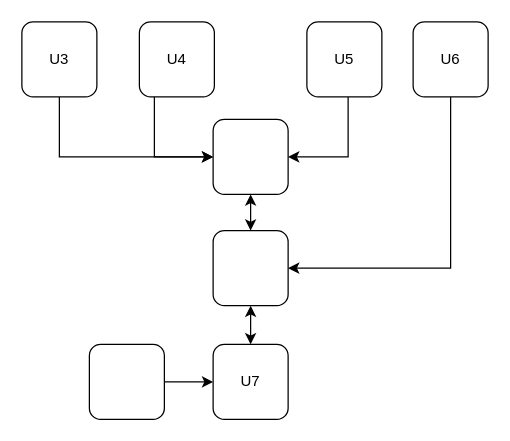
This 510x441 diagram has some shape labels left out. The shapes that lost their labels are listed below. From the top down, each one's box as (x1, y1, x2, y2) in pixels, then its label:
(212, 118, 288, 194): U2
(212, 229, 288, 306): U1
(88, 343, 164, 419): U8
